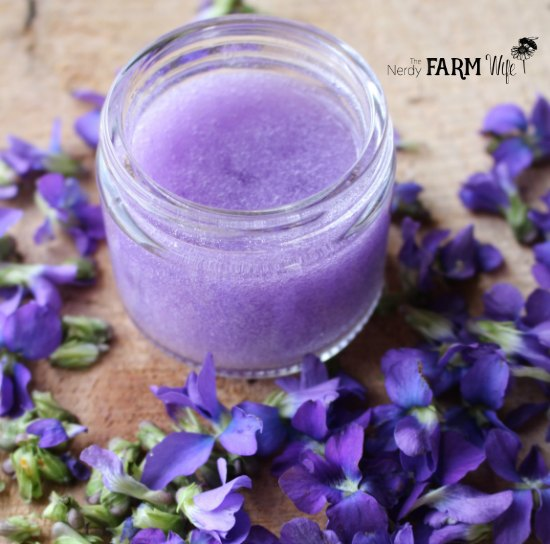violet: (98, 370, 550, 534)
